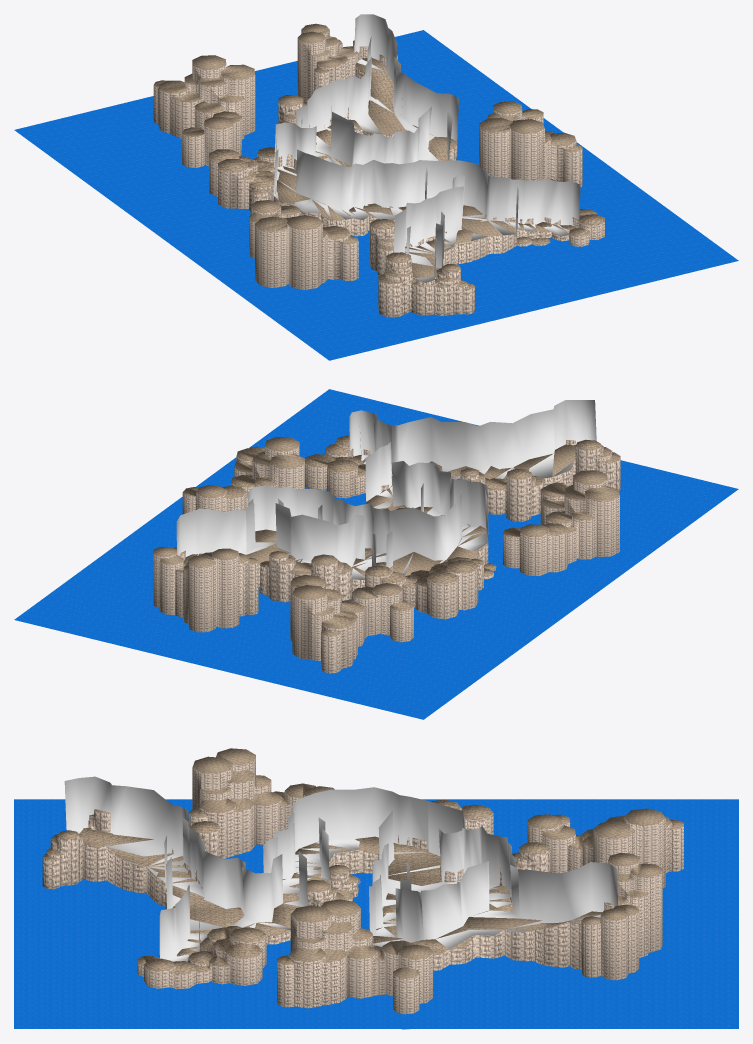
Rendered from Cave.gltf.
3 renders of one model, top to bottom at view 1: azimuth 30°, elevation 25°; view 2: azimuth 150°, elevation 25°; view 3: azimuth 270°, elevation 25°, orthographic. The views are drawn at different scales.
Parts seen in each view (by area): view 1: Water, Enviroment, Way_COL, Way; view 2: Water, Enviroment, Way_COL, Way; view 3: Water, Enviroment, Way_COL, Way.
Part boxes in pixels (x1,y1,x2,y2): Water: (14, 30, 738, 360); Enviroment: (153, 23, 604, 317); Way_COL: (274, 14, 580, 282); Way: (273, 58, 576, 285); Water: (14, 389, 738, 719); Enviroment: (153, 435, 620, 673); Way_COL: (176, 400, 596, 580); Way: (183, 444, 575, 595); Water: (14, 799, 738, 1028); Enviroment: (42, 748, 683, 1029); Way_COL: (64, 776, 617, 961); Way: (79, 827, 602, 970).
Size of the model in its own units: 32.3 by 7.27 by 43.07.
Materials: 3 (3 with a texture image).
